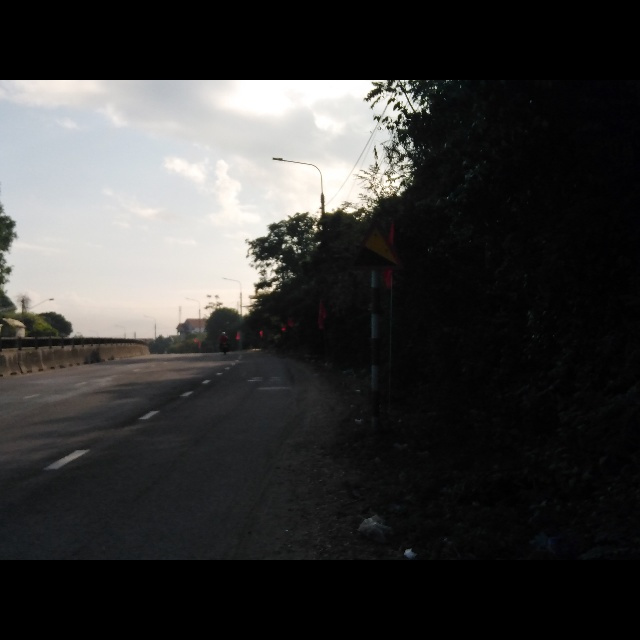Dốc lên nguy hiểm: (348, 217, 407, 273)
